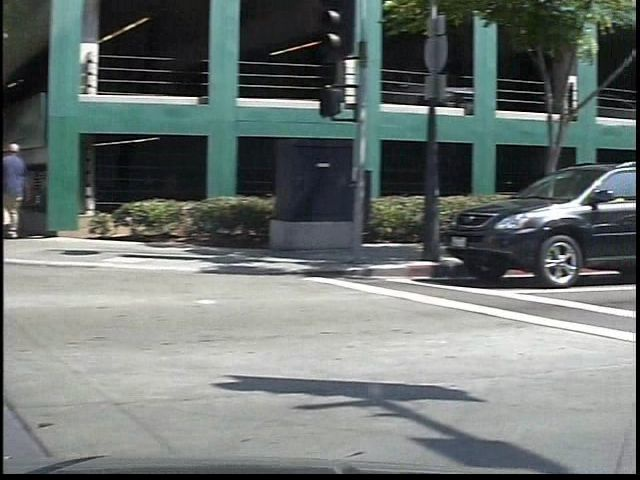person: (8, 136, 55, 243)
